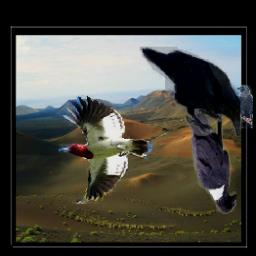Crow: (141, 47, 241, 136), (186, 104, 237, 215), (235, 85, 253, 128)
Woodpecker: (59, 95, 152, 204)
